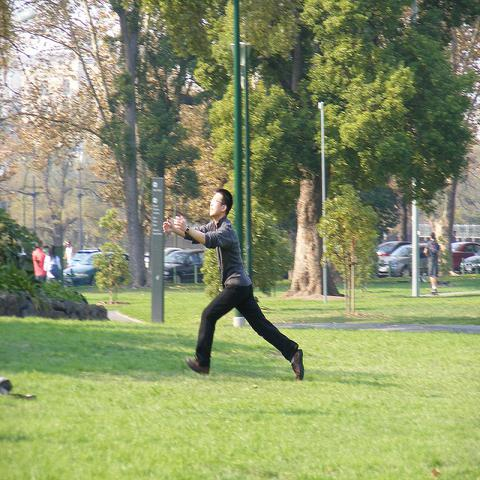car: (376, 241, 428, 277), (163, 248, 204, 284), (63, 250, 101, 286), (144, 246, 184, 274), (450, 241, 479, 270), (376, 238, 413, 258), (460, 248, 479, 274)
